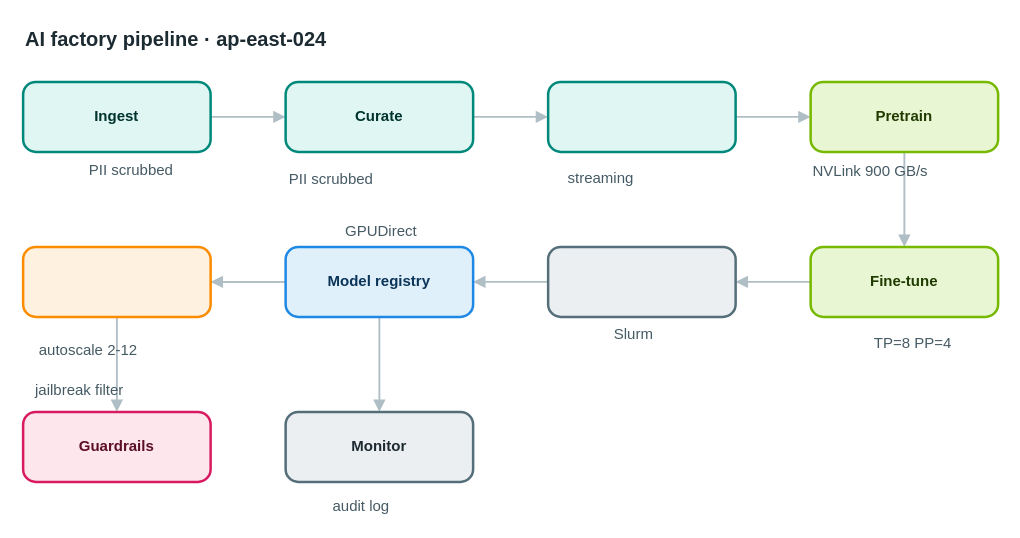
Some shapes in this 1020 by 538 pixel diagram are drawn without their labels. The shapes that lost their labels are listed below. From the top down, each one's centre as x and y in pixels, then its label:
the point at 641,116: Tokenize
the point at 116,281: Serve
the point at 641,281: Evaluate
